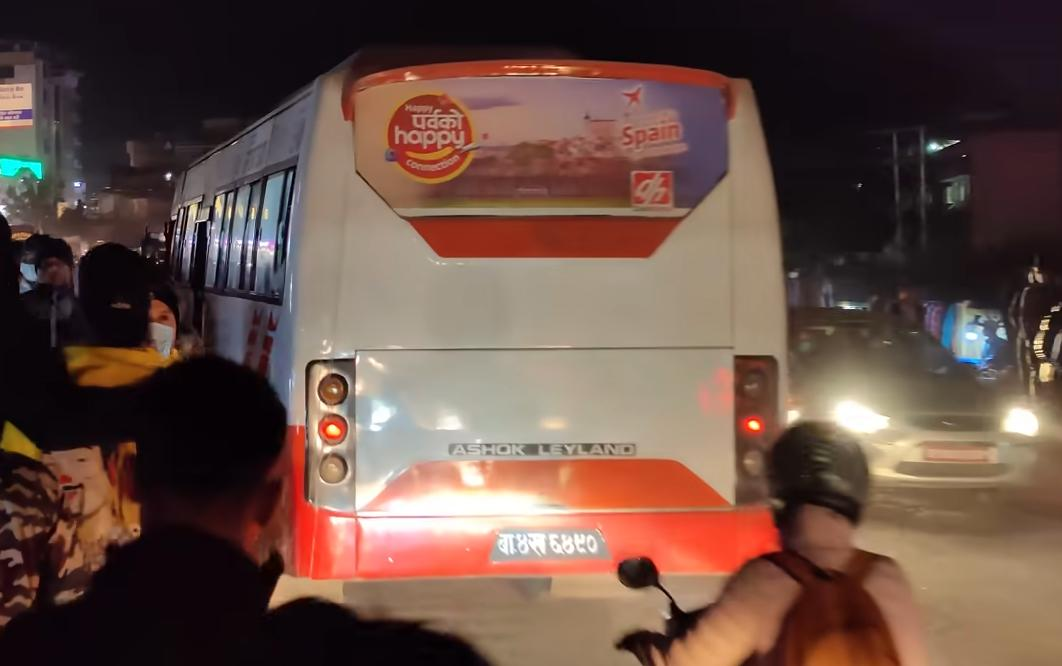bus: (155, 35, 802, 593)
